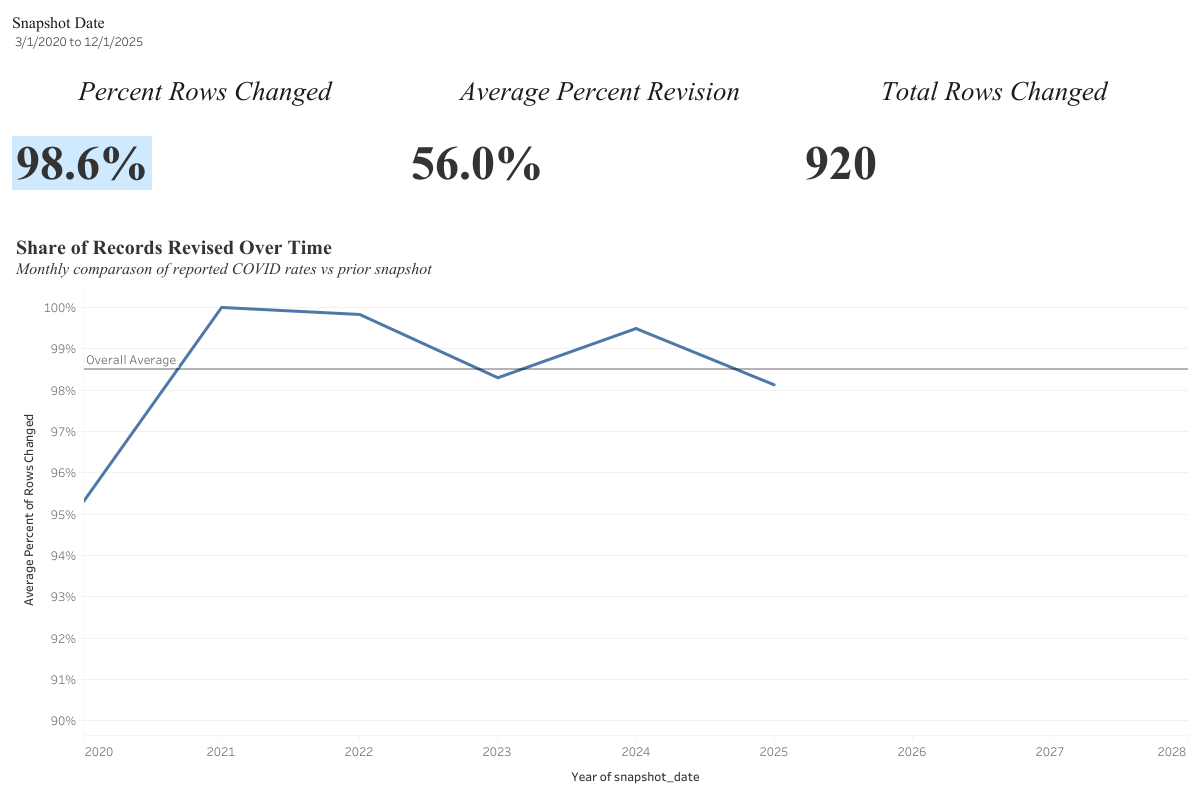

What the dashboard file says about the page in this screenshot:
{"tool":"tableau","page":{"name":"Dashboard 1","canvas":[1000,1000],"units":"permille","ordinal":0},"visuals":[{"type":"filter","title":"KPI #1 - % Rows Changed","param":"[federated.1hukuj10y7xtiu11kruoc09kn5jk].[none:snapshot_date:qk]","box":[6.7,9.3,986.7,67.9]},{"type":"text","box":[6.7,77.3,328.9,67.4]},{"type":"text","box":[335.6,77.3,328.9,68]},{"type":"text","box":[664.4,77.3,328.9,68]},{"type":"worksheet","title":"KPI #1 - % Rows Changed","mark":"Automatic","box":[6.7,144.7,328.9,136.5]},{"type":"worksheet","title":"KPI #2 - Average Percent Revision Size","mark":"Automatic","box":[335.6,145.2,328.9,135.9]},{"type":"worksheet","title":"KPI #3 - Total  Rows Compared","mark":"Automatic","box":[664.4,145.2,328.9,135.9]},{"type":"worksheet","title":"Trend - % Rows Changed","mark":"Line","rows":["pct_rows_changed"],"cols":["snapshot_date"],"box":[6.7,281.2,986.7,709.5]}]}

Visuals, with their boxes on the dashboard's canvas, which has no fixed pixel size, in thousandths of its width and height (x1, y1, x2, y2). These are canvas units, not pixel positions in the 1199x803 screenshot, which may show the page scaled, cropped or inside an application window:
"KPI #1 - % Rows Changed" filter: box(7, 9, 993, 77)
text: box(7, 77, 336, 145)
text: box(336, 77, 664, 145)
text: box(664, 77, 993, 145)
"KPI #1 - % Rows Changed" worksheet: box(7, 145, 336, 281)
"KPI #2 - Average Percent Revision Size" worksheet: box(336, 145, 664, 281)
"KPI #3 - Total  Rows Compared" worksheet: box(664, 145, 993, 281)
"Trend - % Rows Changed" worksheet (Line marks): box(7, 281, 993, 991)
